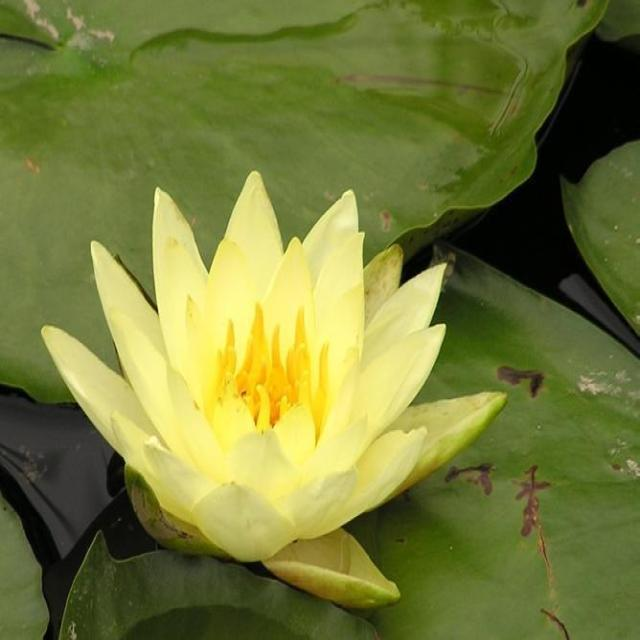water-lily: (38, 134, 497, 608)
